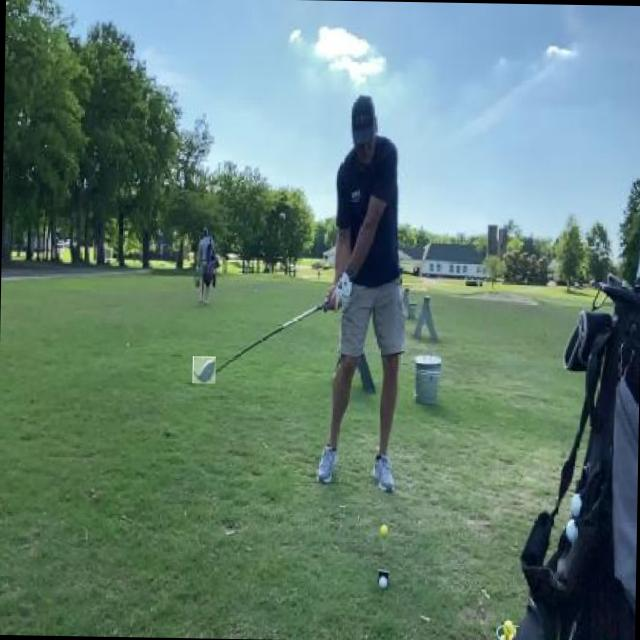club head: (192, 356, 215, 383)
